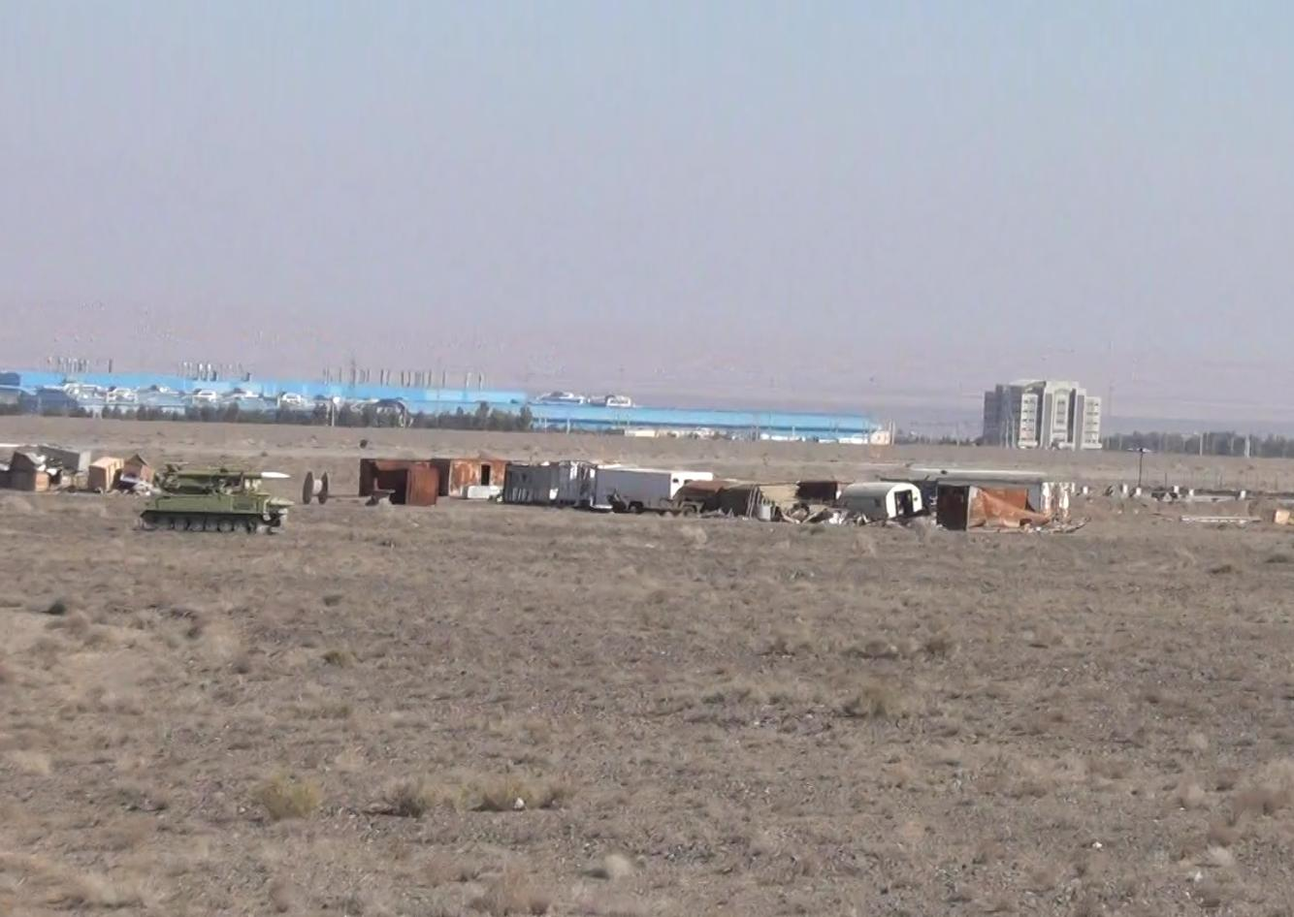armored_car: (132, 461, 296, 538)
